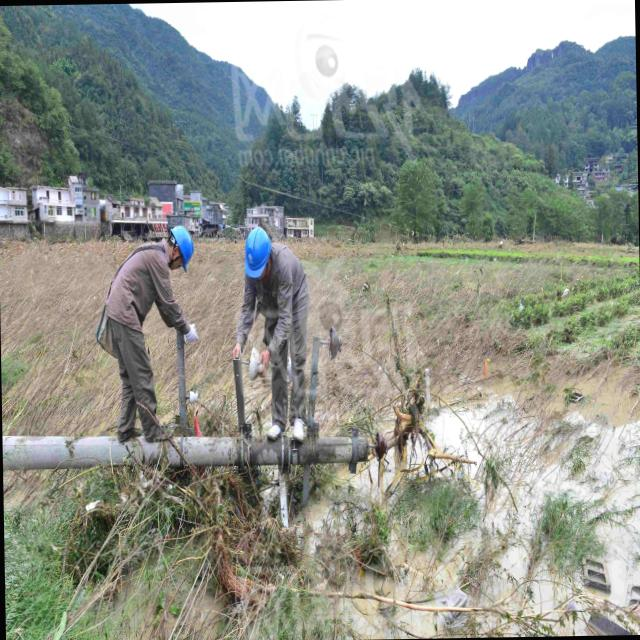helmet: (241, 222, 269, 280), (170, 220, 192, 269)
no-vest: (110, 246, 167, 329)
